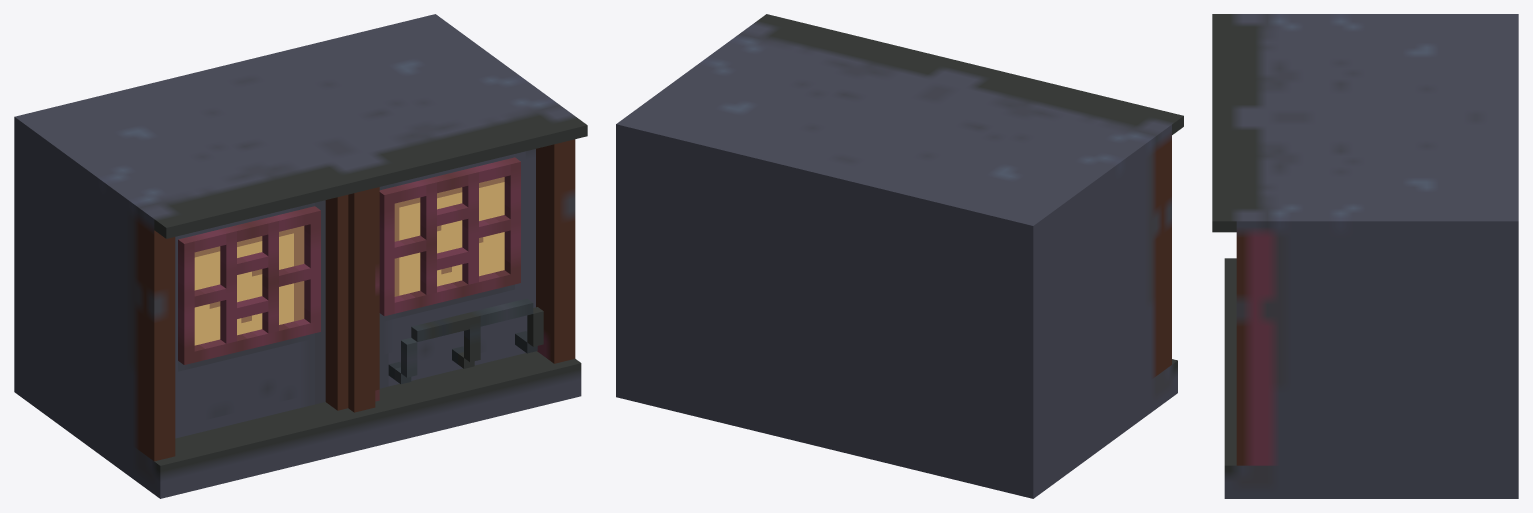
Rendered from BuildingBlock-22.fbx.
The picture shows the model from 3 angles, left to right: view 1: azimuth 30°, elevation 25°; view 2: azimuth 150°, elevation 25°; view 3: azimuth 270°, elevation 25°; orthographic projection.
Parts seen in each view (by area): view 1: BuildingBlock_22; view 2: BuildingBlock_22; view 3: BuildingBlock_22.
Part boxes in pixels (x1,y1,x2,y2): BuildingBlock_22: (14, 14, 587, 498); BuildingBlock_22: (616, 14, 1183, 498); BuildingBlock_22: (1212, 14, 1518, 498).
Size of the model in its own units: 400 by 250 by 250.
2 materials, 2 textured.
